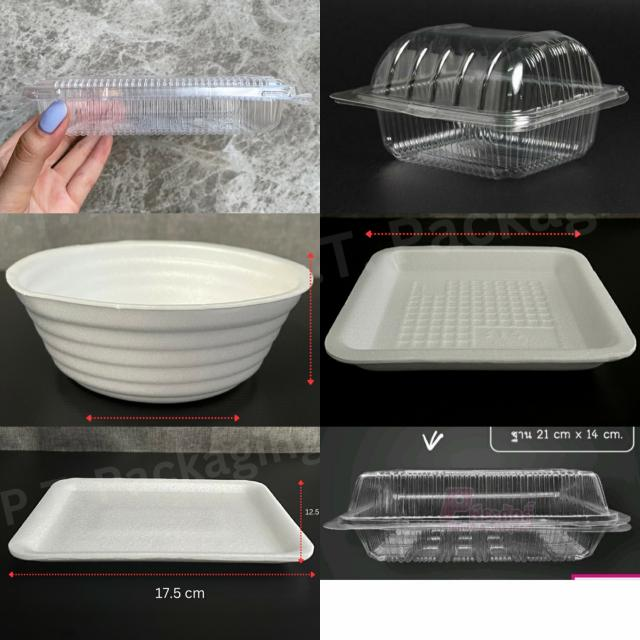Single-Use-Plastic: (6, 240, 309, 403), (332, 24, 628, 179), (325, 246, 635, 370), (324, 469, 630, 562), (9, 478, 314, 562), (23, 76, 310, 135)
